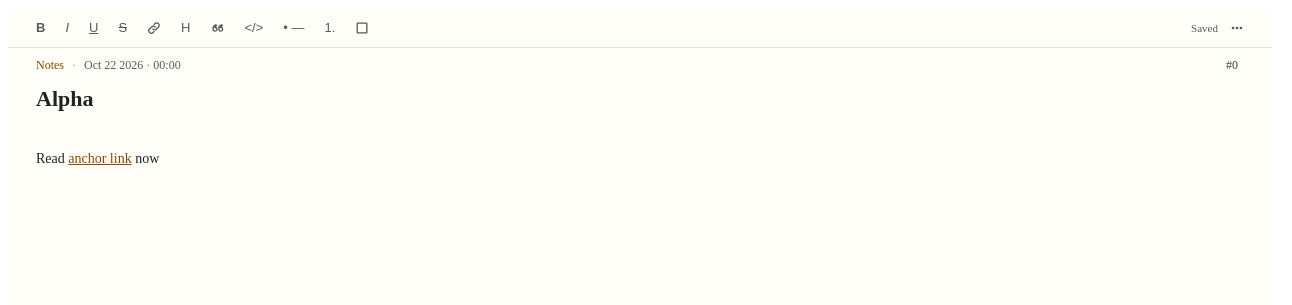
Scenario: Remove link keeps the text and saves once
Click the link "anchor link" at point(100, 158), box x1=68 y1=151 x2=132 y2=166
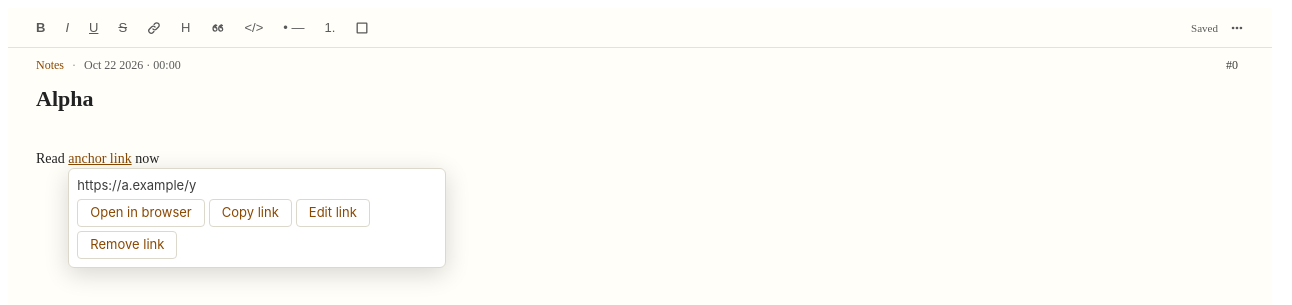
Click the button "Remove link" at point(127, 244), box x1=77 y1=230 x2=177 y2=258
Wait 1500 ms
(page scrolled)
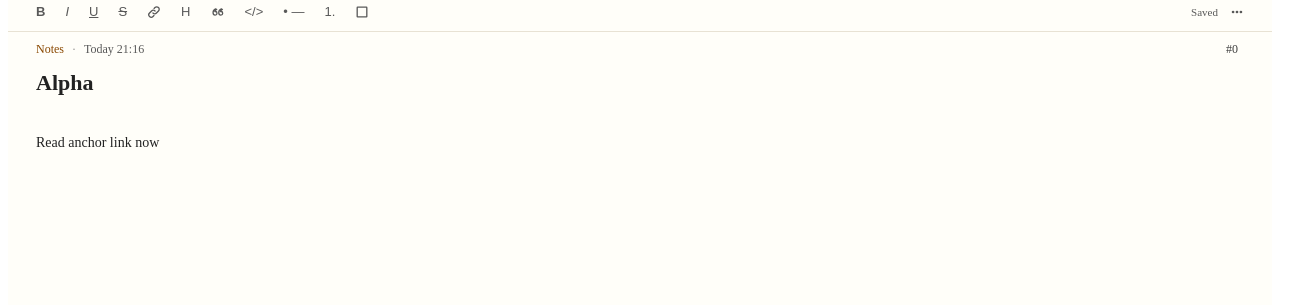
expect the field with class "editor-body" reads "Read anchor link now": met, box x1=36 y1=135 x2=159 y2=150
expect the element with class "link-chip" is gone: met
